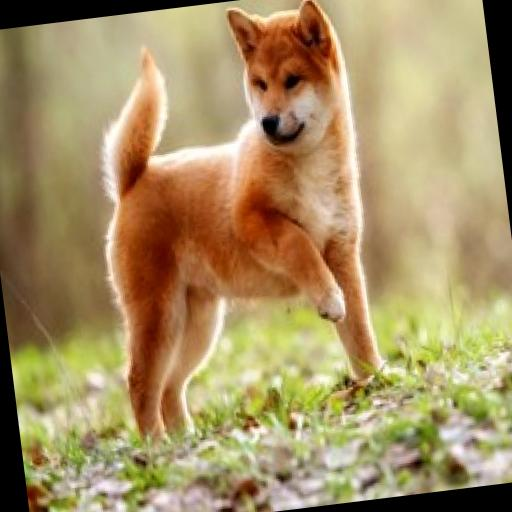dog: (58, 0, 413, 455)
